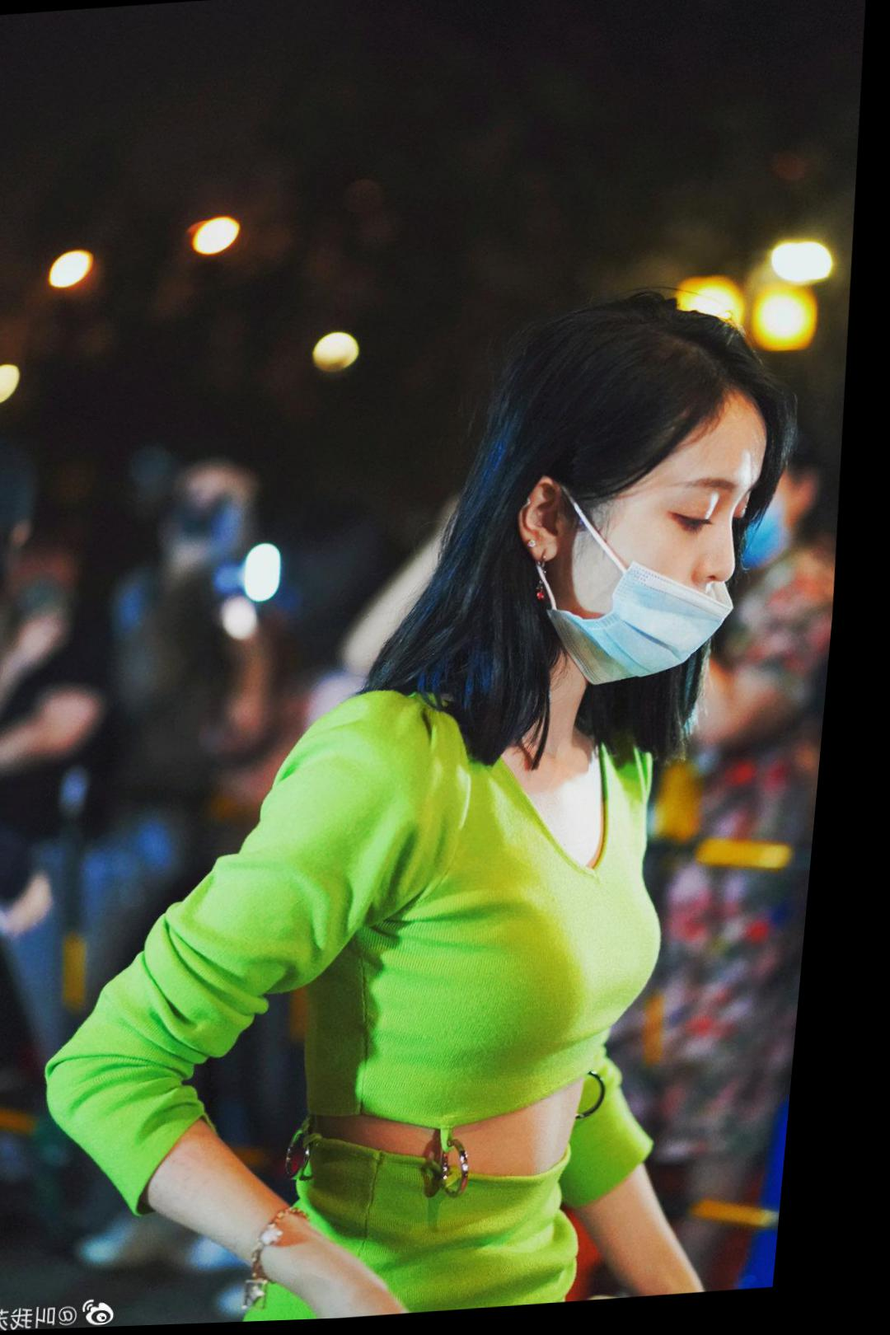WRONG: (574, 445, 780, 698)
